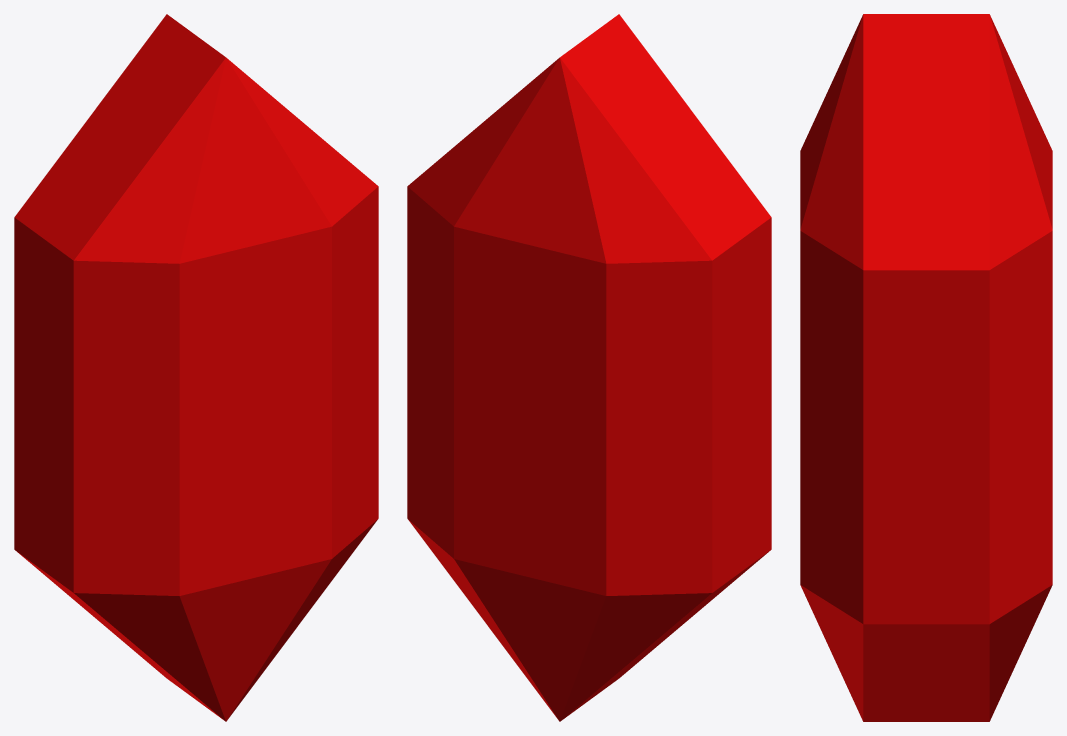
The model's file is Ruby.fbx.
3 views of the same model, side by side, from view 1: azimuth 30°, elevation 25°; view 2: azimuth 150°, elevation 25°; view 3: azimuth 270°, elevation 25° (orthographic). The views are drawn at different scales.
Parts seen in each view (by area): view 1: pCube1; view 2: pCube1; view 3: pCube1.
Part boxes in pixels (x1,y1,x2,y2): pCube1: (14,14,378,721); pCube1: (407,14,771,721); pCube1: (800,14,1052,721).
Size of the model in its own units: 0.4869 by 1.01 by 0.328.
